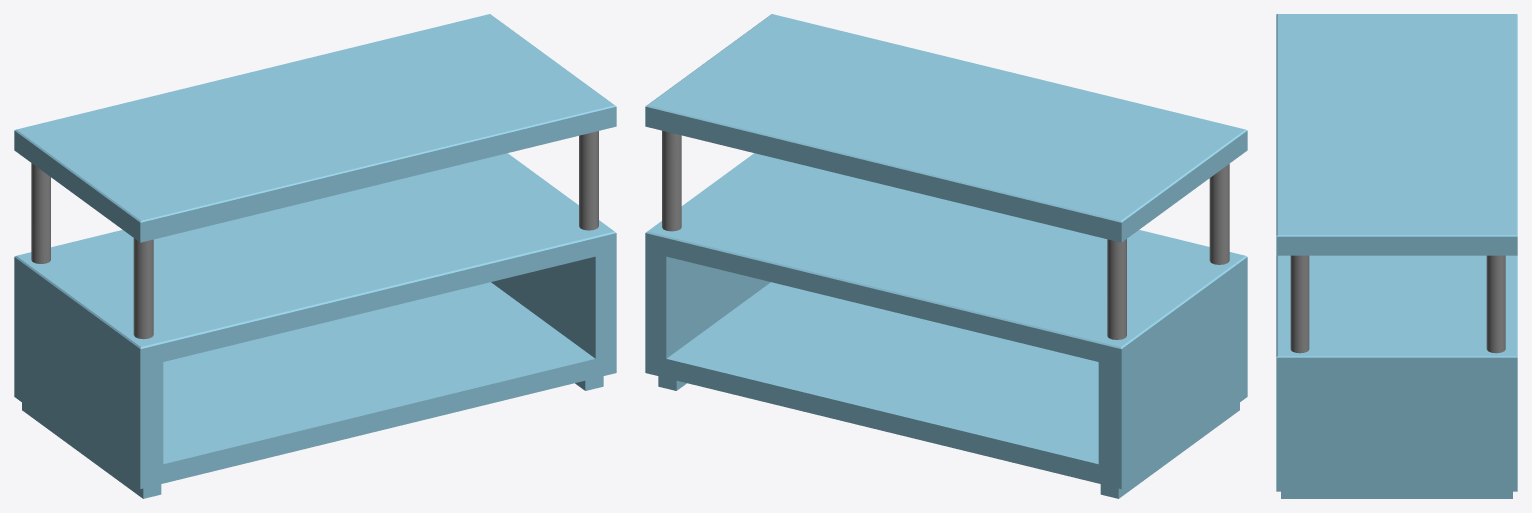
The model's file is FURNITURE_tvStand_03.FBX.
3 views of the same model, side by side, from view 1: azimuth 30°, elevation 25°; view 2: azimuth 150°, elevation 25°; view 3: azimuth 270°, elevation 25° (orthographic). The views are drawn at different scales.
Parts seen in each view (by area): view 1: PROP_tvStand_03; view 2: PROP_tvStand_03; view 3: PROP_tvStand_03.
Boxes of the visible parts, bbox=[...] form: PROP_tvStand_03: bbox=[14, 14, 616, 498]; PROP_tvStand_03: bbox=[645, 14, 1247, 498]; PROP_tvStand_03: bbox=[1276, 14, 1517, 498].
Bounding box in the file's own units: 146 × 81.99 × 66.86.
